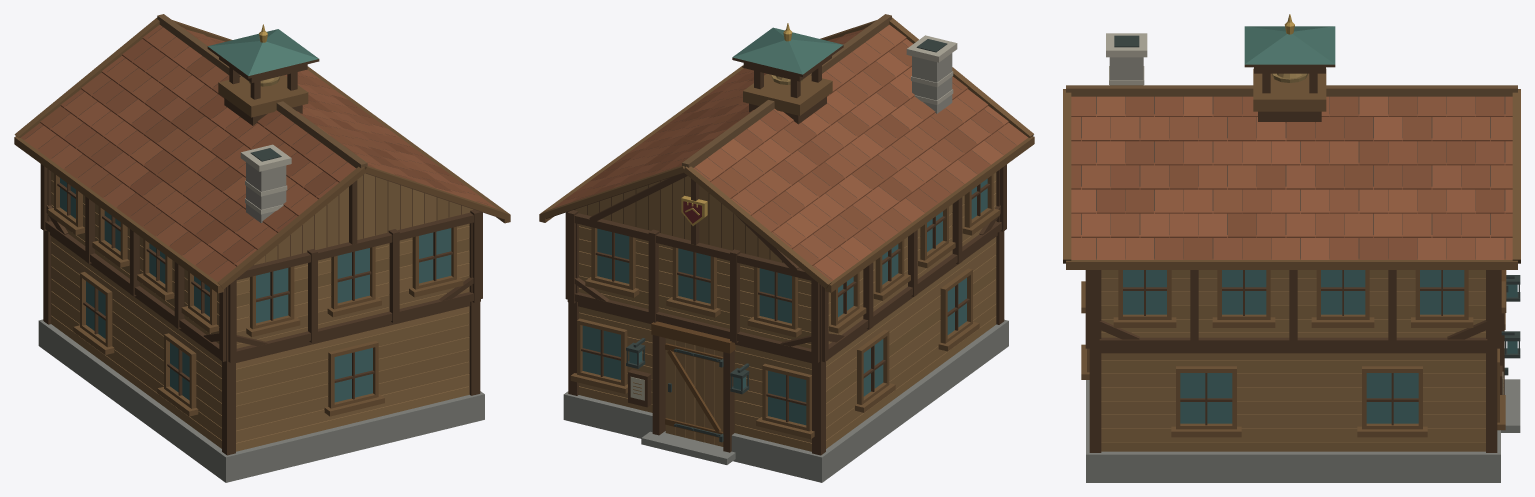
File: MootHall.glb
3 views of the same model, side by side, from view 1: azimuth 30°, elevation 25°; view 2: azimuth 150°, elevation 25°; view 3: azimuth 270°, elevation 25° (orthographic). The views are drawn at different scales.
Visible parts, largest first — view 1: MootHall, MootHallGlass; view 2: MootHall, MootHallGlass, MootHallDoor; view 3: MootHall, MootHallGlass.
Part boxes in pixels (x1,y1,x2,y2): MootHall: (14, 14, 510, 482); MootHallGlass: (60, 178, 451, 402); MootHall: (539, 14, 1034, 482); MootHallGlass: (582, 178, 987, 425); MootHallDoor: (665, 338, 723, 446); MootHall: (1063, 14, 1520, 482); MootHallGlass: (1123, 270, 1517, 423).
Bounding box in the file's own units: 7.19 × 8.44 × 8.78.
